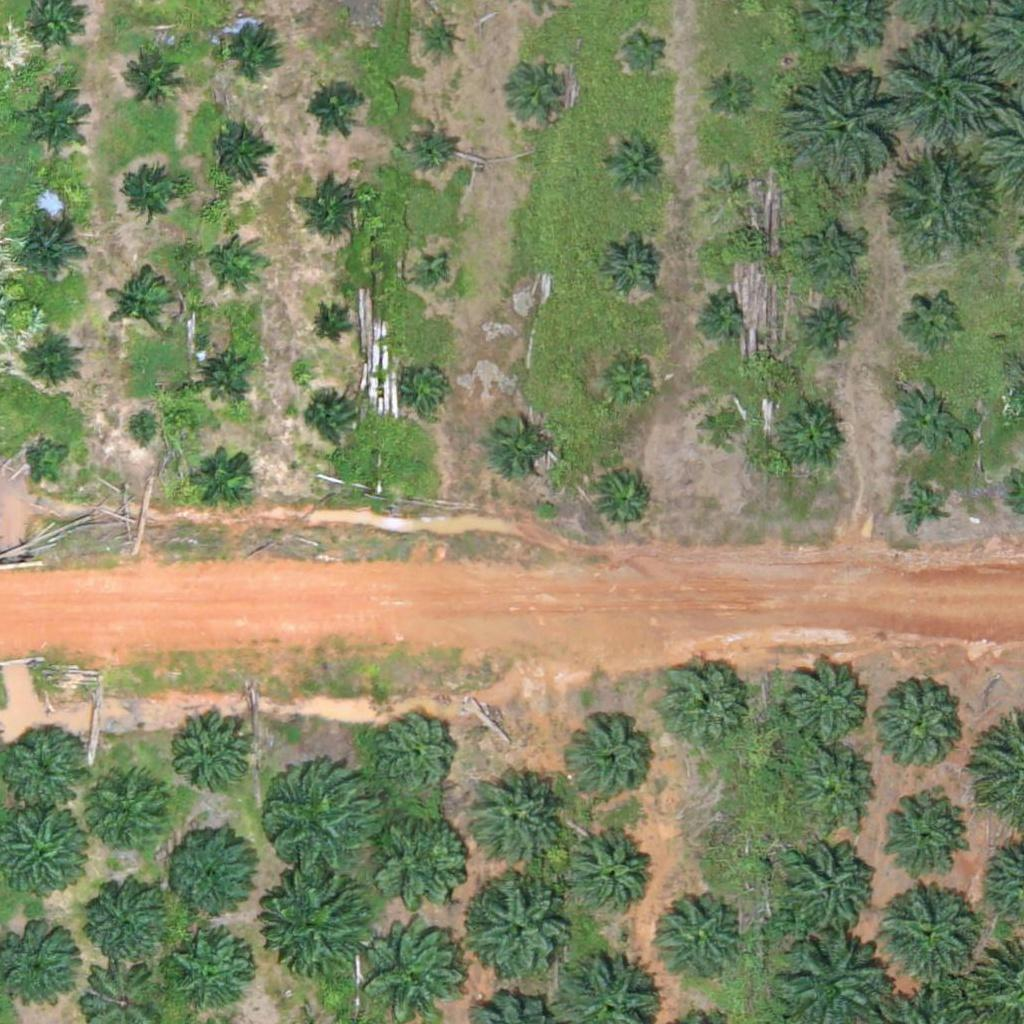Kelapa_Sawit: (260, 756, 385, 882), (780, 66, 905, 192), (888, 31, 1001, 144), (879, 146, 992, 259), (465, 877, 577, 990), (868, 673, 968, 774), (644, 893, 744, 994), (467, 769, 567, 870), (272, 874, 372, 975), (881, 883, 981, 983), (777, 836, 877, 936), (373, 801, 473, 901), (875, 789, 963, 877), (657, 658, 745, 746), (560, 829, 648, 917), (165, 829, 252, 918), (84, 875, 171, 963), (795, 744, 882, 832), (783, 661, 870, 749), (570, 718, 657, 806), (87, 767, 174, 855), (173, 710, 260, 798), (374, 714, 461, 802), (113, 166, 188, 242), (16, 85, 91, 161), (117, 40, 192, 116), (484, 408, 559, 484), (105, 268, 180, 344), (14, 217, 89, 292), (773, 398, 848, 473), (889, 380, 964, 455), (514, 59, 577, 122), (218, 15, 281, 78), (195, 445, 258, 508), (22, 335, 85, 398), (194, 340, 257, 403), (601, 131, 664, 194), (601, 236, 664, 299), (594, 468, 657, 531), (594, 350, 657, 413), (304, 177, 366, 240), (303, 77, 365, 140), (207, 123, 270, 185), (801, 223, 863, 286), (905, 292, 967, 355), (807, 301, 857, 352), (896, 481, 946, 532), (705, 61, 755, 112), (704, 158, 754, 209), (694, 287, 744, 338), (620, 23, 670, 74), (27, 433, 77, 484), (203, 232, 253, 282), (304, 395, 354, 445), (404, 362, 454, 412), (698, 403, 748, 453), (406, 121, 456, 171), (423, 19, 461, 57), (413, 257, 451, 295), (122, 411, 160, 449), (308, 308, 345, 346)
